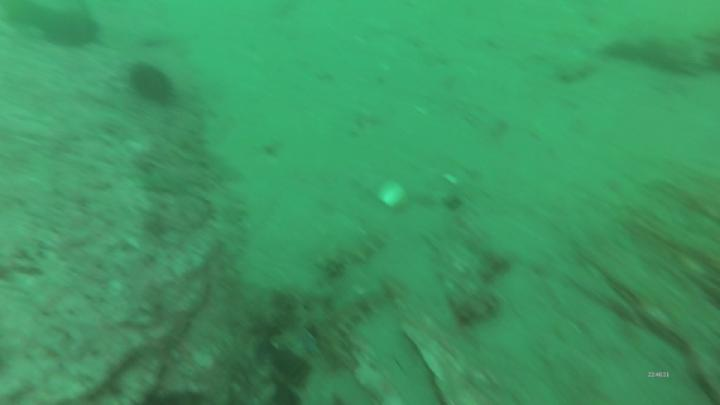echinus: (41, 7, 102, 51), (129, 59, 176, 108)
holothurian: (311, 285, 403, 372), (316, 222, 389, 285)
